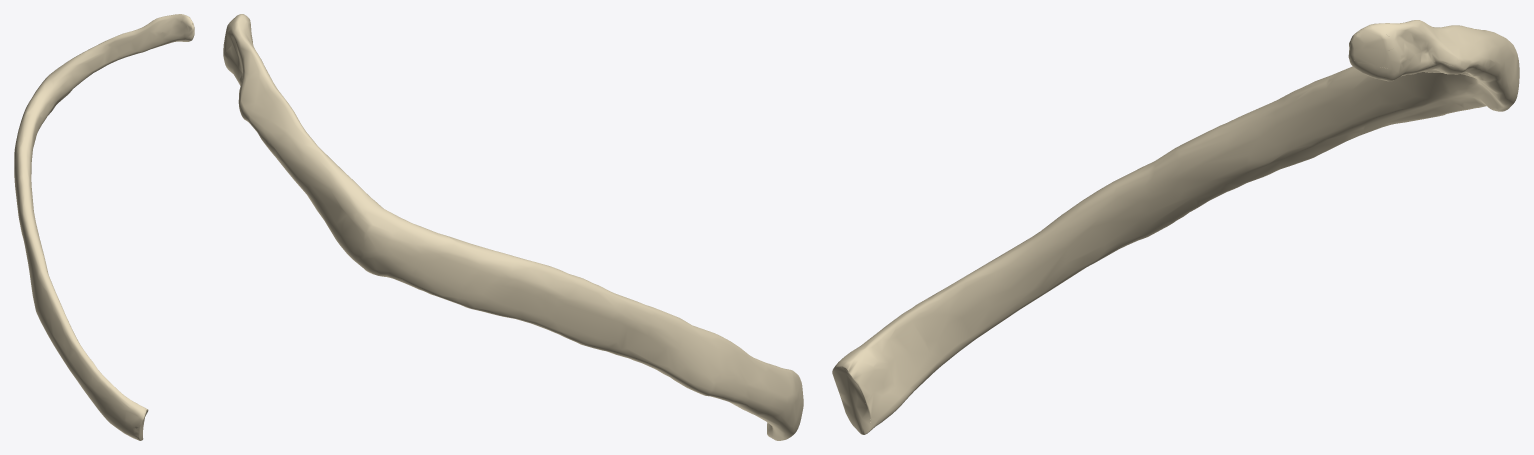
File: esqueleto-eighth-rib-r.glb
3 renders of one model, left to right at view 1: azimuth 30°, elevation 25°; view 2: azimuth 150°, elevation 25°; view 3: azimuth 270°, elevation 25°, orthographic. The views are drawn at different scales.
Visible parts, largest first — view 1: Eighth rib.r; view 2: Eighth rib.r; view 3: Eighth rib.r.
Part boxes in pixels (bbox=[...]): Eighth rib.r: bbox=[14, 14, 194, 440]; Eighth rib.r: bbox=[223, 14, 803, 440]; Eighth rib.r: bbox=[832, 20, 1519, 434].
Size of the model in its own units: 0.1179 by 0.1515 by 0.1634.
